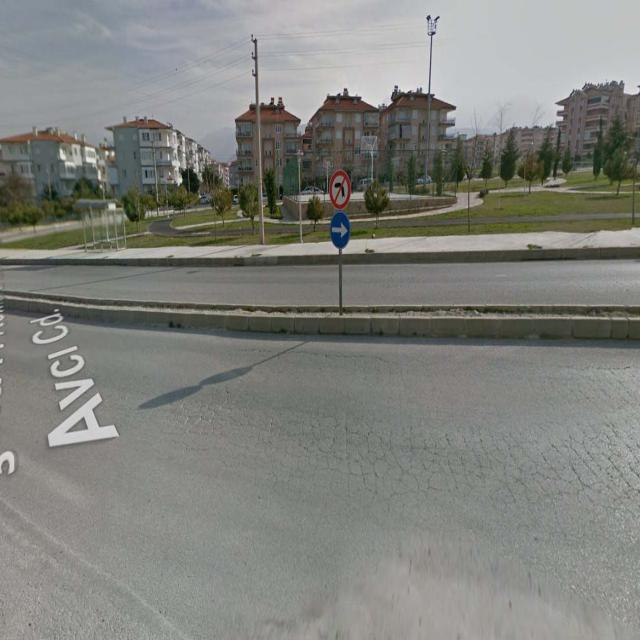sag: (330, 214, 350, 248)
soladonulmez: (329, 171, 351, 209)
